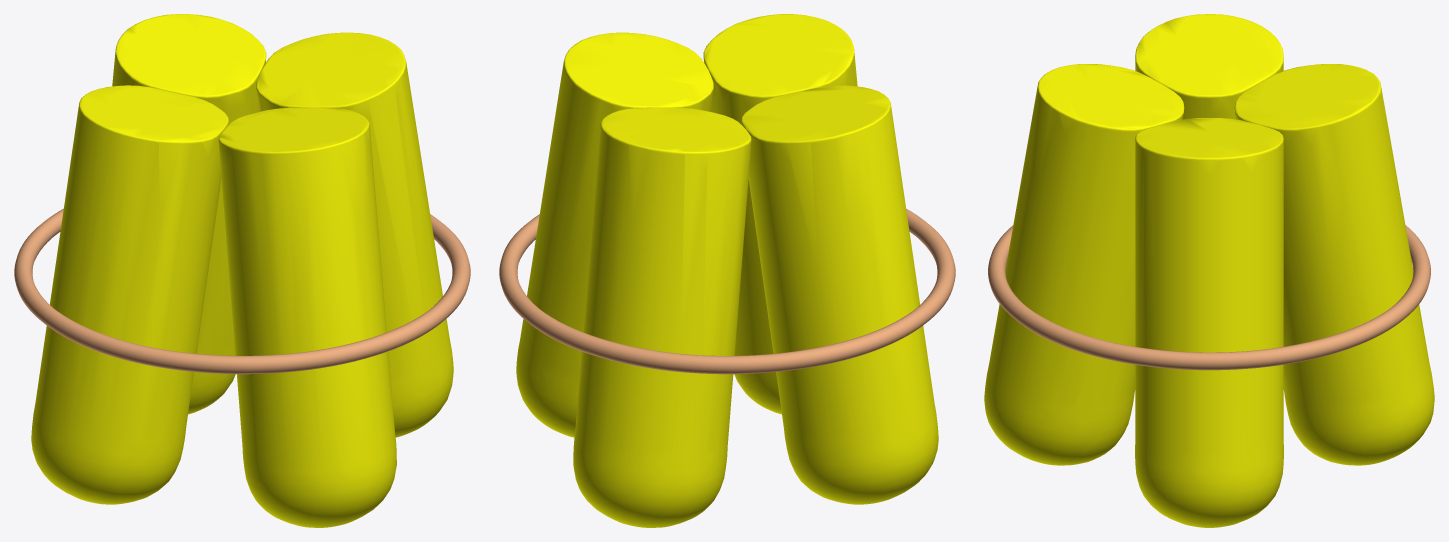
The model's file is designconnected-bolt-stool-8411.optimized.glb.
3 renders of one model, left to right at view 1: azimuth 30°, elevation 25°; view 2: azimuth 150°, elevation 25°; view 3: azimuth 270°, elevation 25°, orthographic. The views are drawn at different scales.
Parts seen in each view (by area): view 1: LaChance_Bolt_mat1; view 2: LaChance_Bolt_mat1; view 3: LaChance_Bolt_mat1.
Part boxes in pixels (x1,y1,x2,y2): LaChance_Bolt_mat1: (14,14,470,527); LaChance_Bolt_mat1: (499,14,955,527); LaChance_Bolt_mat1: (984,14,1434,527).
Size of the model in its own units: 0.4512 by 0.4101 by 0.4512.
